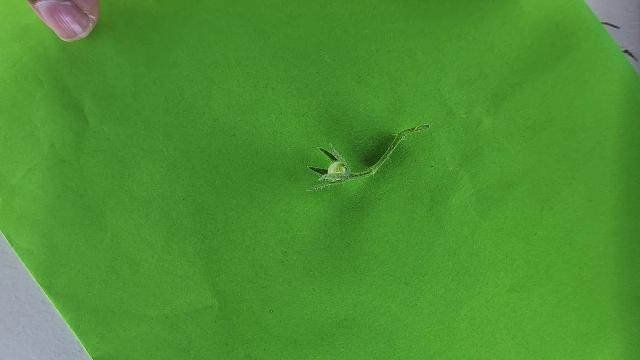Fruit Bud: (306, 144, 352, 185)
